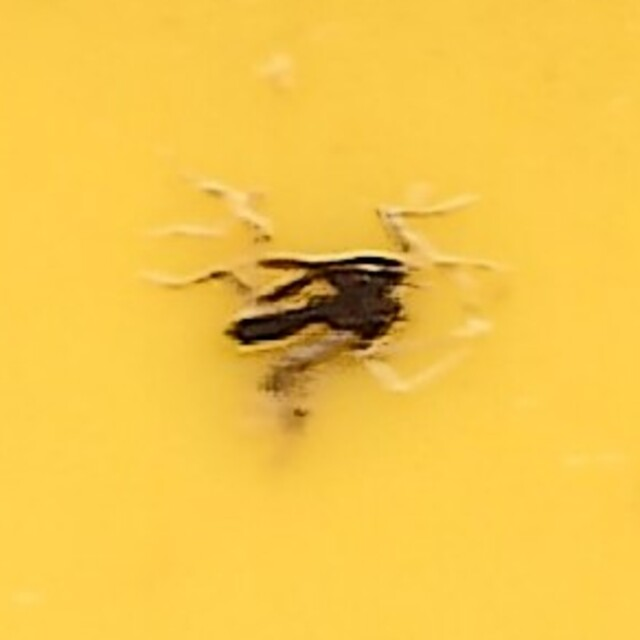Brachycera: (219, 238, 421, 402)
